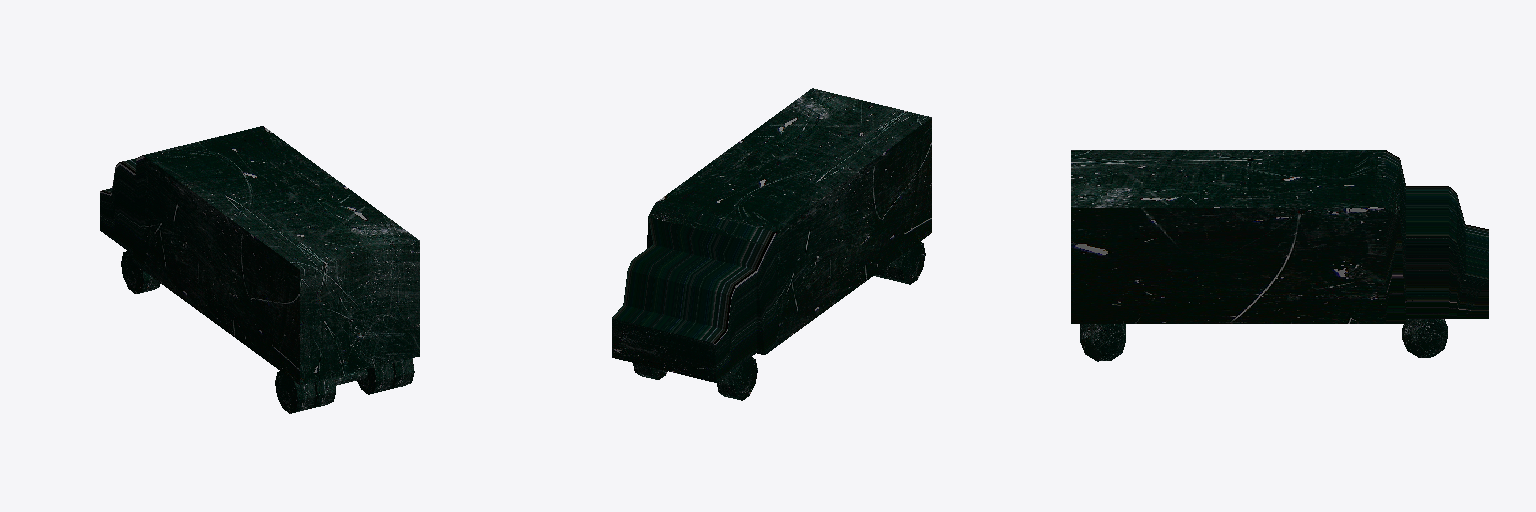
3 renders of one model, left to right at view 1: azimuth 30°, elevation 25°; view 2: azimuth 150°, elevation 25°; view 3: azimuth 270°, elevation 25°, orthographic.
Parts seen in each view (by area): view 1: truck:polySurface9; view 2: truck:polySurface9; view 3: truck:polySurface9.
Part boxes in pixels (left/top/right/bottom): truck:polySurface9: left=100, top=126, right=419, bottom=413; truck:polySurface9: left=612, top=88, right=931, bottom=400; truck:polySurface9: left=1071, top=150, right=1488, bottom=361.
Size of the model in its own units: 15.1 by 18.52 by 45.5.
1 materials, 1 textured.